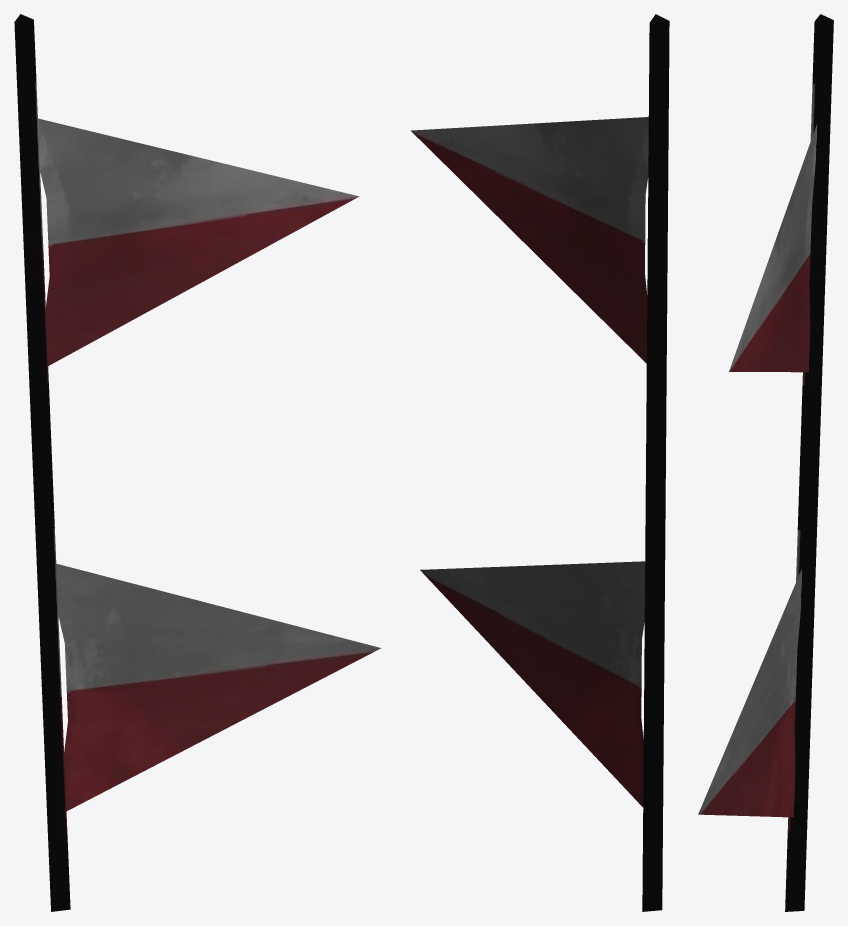
File: Ribbon_3.glb
3 renders of one model, left to right at view 1: azimuth 30°, elevation 25°; view 2: azimuth 150°, elevation 25°; view 3: azimuth 270°, elevation 25°, orthographic. The views are drawn at different scales.
Parts seen in each view (by area): view 1: Ribbon_3; view 2: Ribbon_3; view 3: Ribbon_3.
Boxes of the visible parts, box(x1,y1,x2,y2) form: Ribbon_3: box(14, 14, 381, 911); Ribbon_3: box(411, 14, 669, 911); Ribbon_3: box(698, 14, 833, 911).
Size of the model in its own units: 0.24 by 0.6642 by 0.0929.
1 material, 1 textured.
